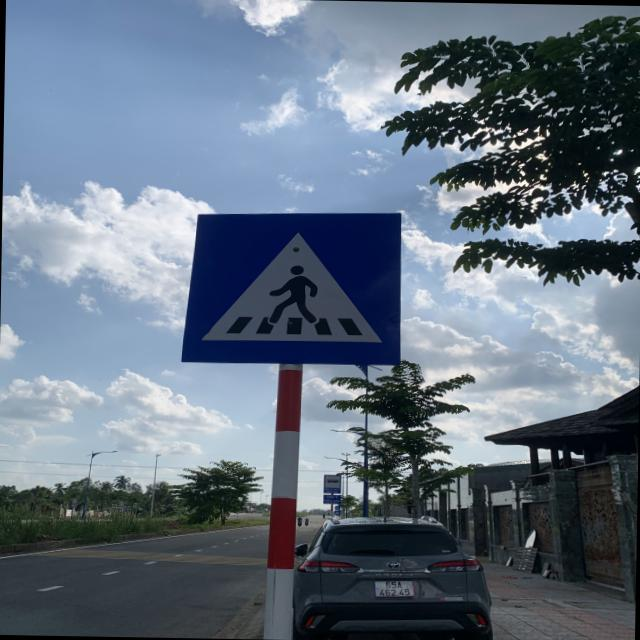Giao_Nhau_Duong_Uu_Tien: (179, 206, 400, 366)
